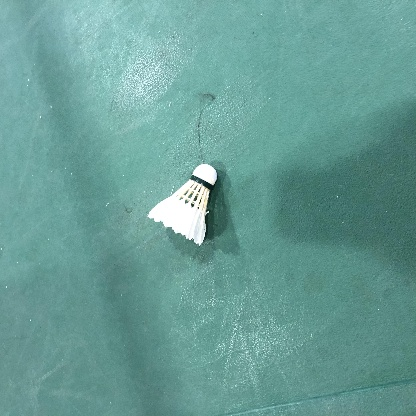ball_single: (147, 164, 217, 246)
